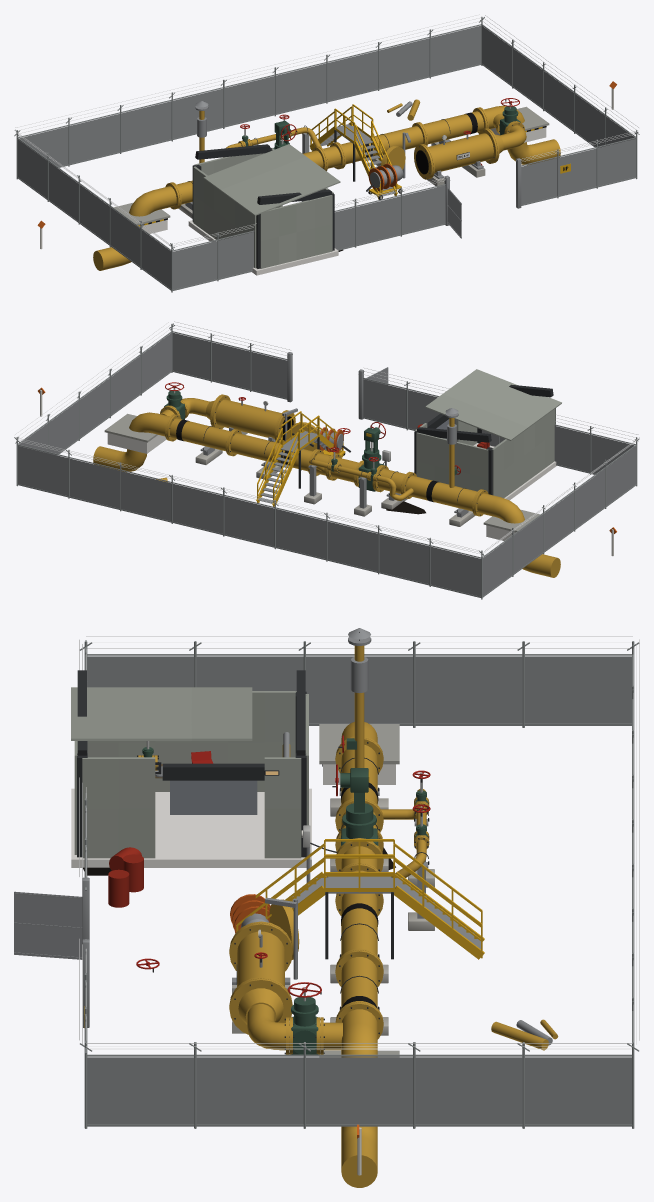
File: valve-station.glb
The picture shows the model from 3 angles, top to bottom: view 1: azimuth 30°, elevation 25°; view 2: azimuth 150°, elevation 25°; view 3: azimuth 270°, elevation 25°; orthographic projection. The views are drawn at different scales.
Visible parts, largest first — view 1: C0_0_lod0, C-1_-1_lod0, C0_-1_lod0, C-1_0_lod0; view 2: C0_0_lod0, C-1_-1_lod0, C-1_0_lod0, C0_-1_lod0; view 3: C0_0_lod0, C-1_-1_lod0, C-1_0_lod0, C0_-1_lod0.
Boxes of the visible parts, x1,y1,x2,y2 form: C0_0_lod0: (15, 14, 639, 270); C-1_-1_lod0: (37, 124, 448, 292); C0_-1_lod0: (337, 81, 639, 238); C-1_0_lod0: (14, 79, 328, 290); C0_0_lod0: (14, 322, 560, 597); C-1_-1_lod0: (338, 367, 639, 533); C-1_0_lod0: (272, 408, 639, 599); C0_-1_lod0: (38, 321, 388, 475); C0_0_lod0: (83, 639, 639, 1187); C-1_-1_lod0: (71, 639, 356, 907); C-1_0_lod0: (86, 628, 639, 930); C0_-1_lod0: (14, 840, 359, 1138).
Size of what is drawn, in the model's own units: 32.42 by 7.68 by 17.16.
